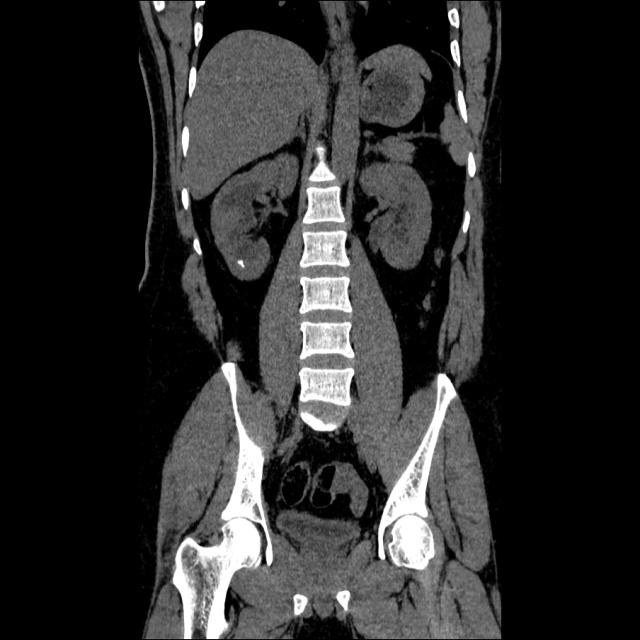kidney: (215, 157, 295, 276), (366, 165, 426, 268)
stone: (238, 260, 245, 268)
